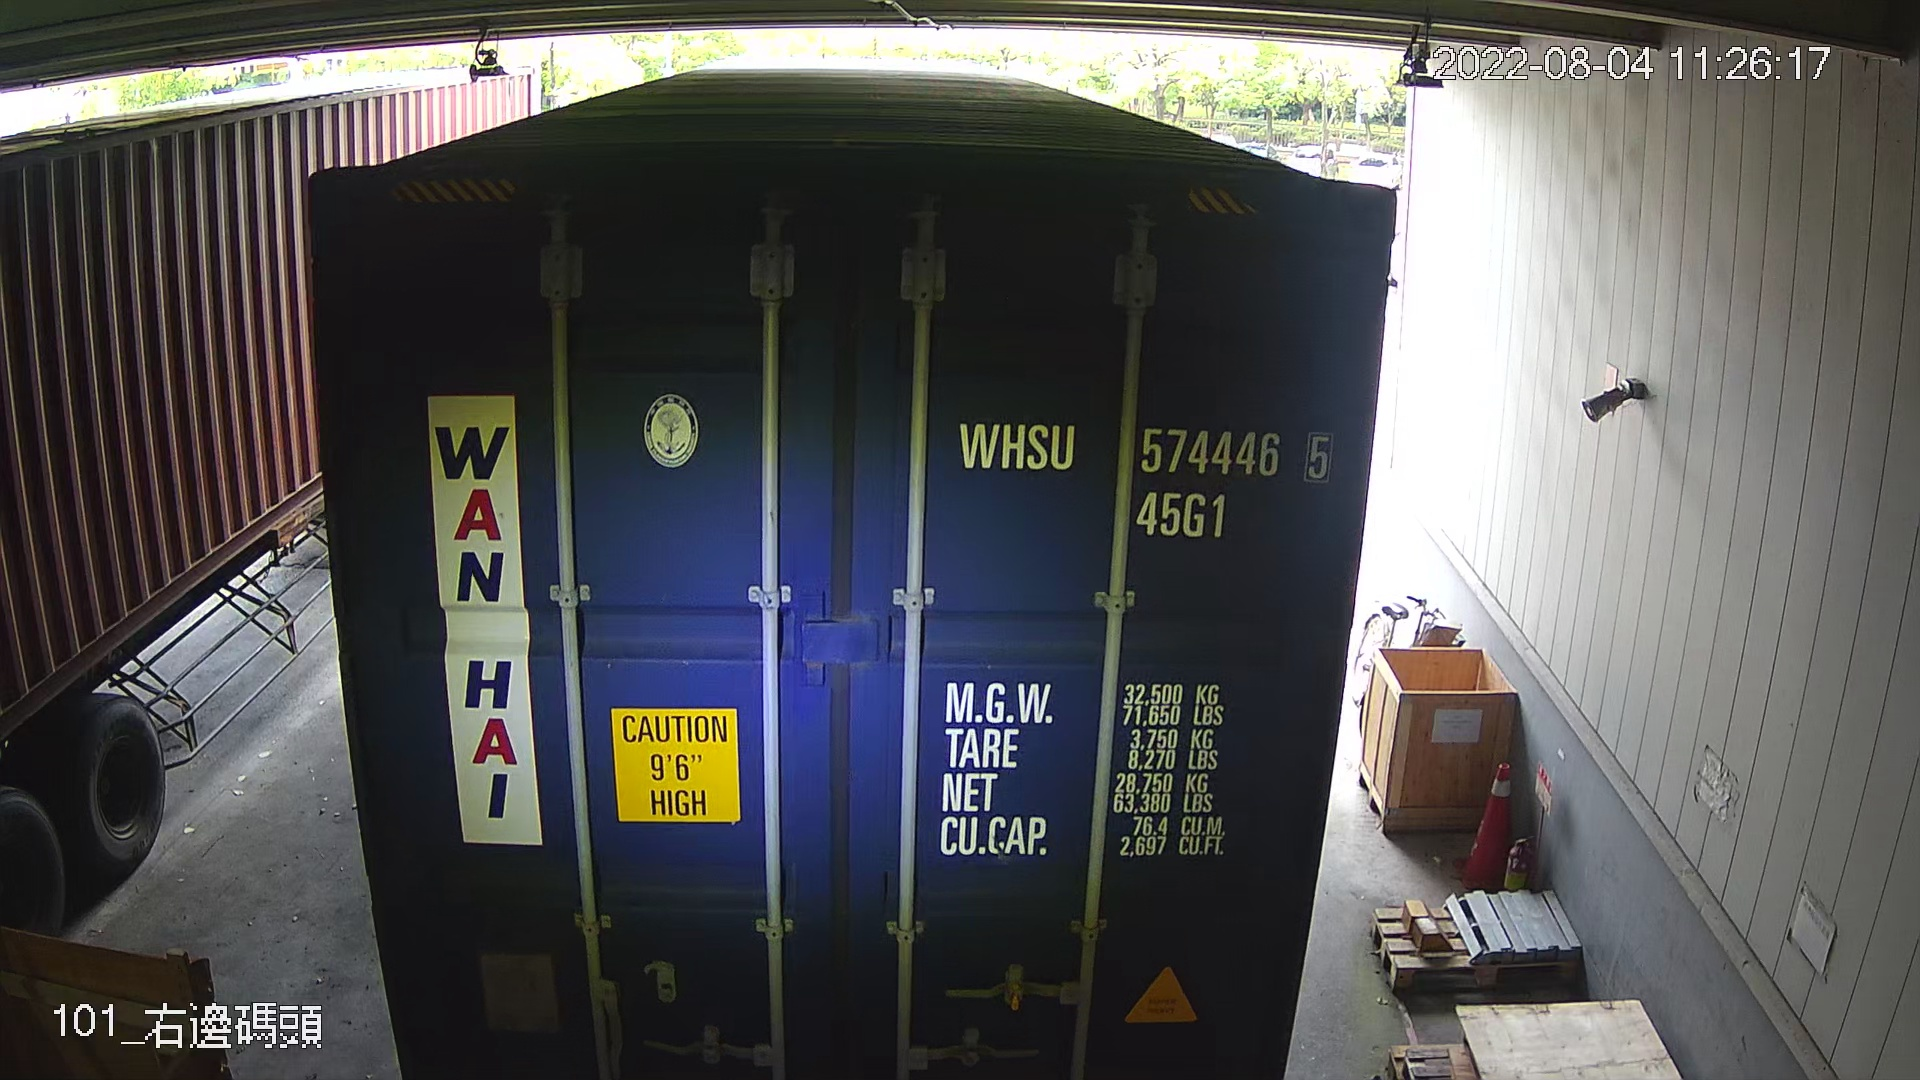container: (947, 402, 1346, 554)
